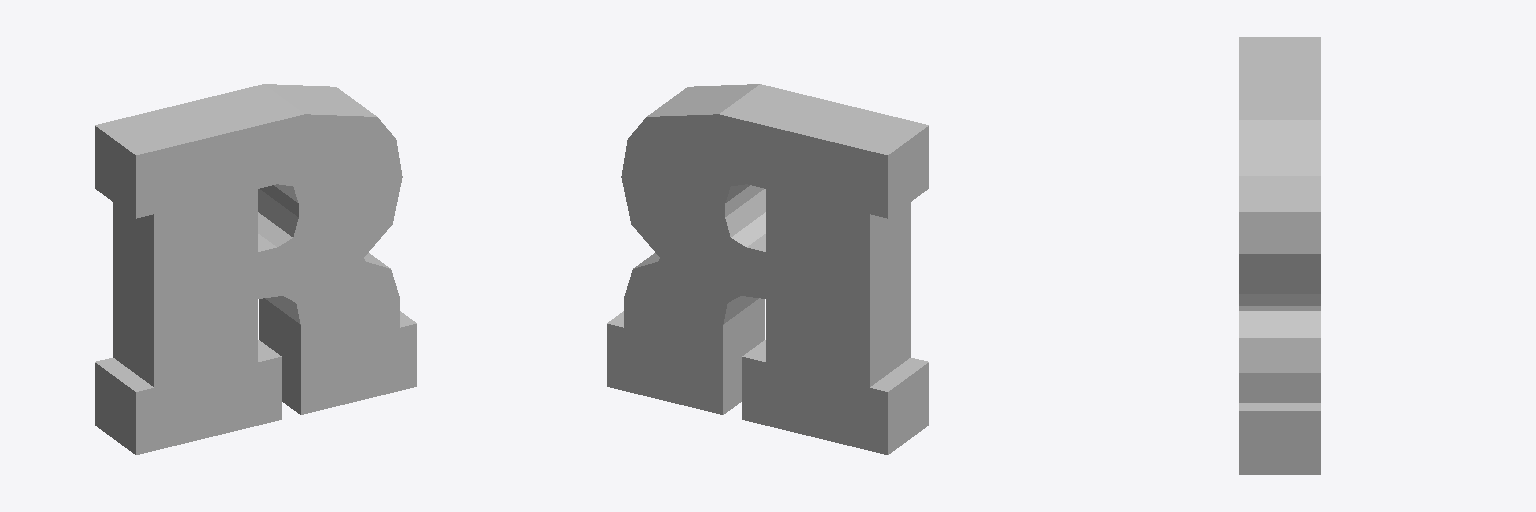
The picture shows the model from 3 angles: view 1: azimuth 30°, elevation 25°; view 2: azimuth 150°, elevation 25°; view 3: azimuth 270°, elevation 25°; orthographic projection.
Parts seen in each view (by area): view 1: text: ABCDEFGHIJKLMNOPQRSTUVWXYZ[number redacted]; view 2: text: ABCDEFGHIJKLMNOPQRSTUVWXYZ[number redacted]; view 3: text: ABCDEFGHIJKLMNOPQRSTUVWXYZ[number redacted].
Boxes of the visible parts, box(x1,y1,x2,y2) form: text: ABCDEFGHIJKLMNOPQRSTUVWXYZ[number redacted]: box(95, 84, 416, 454); text: ABCDEFGHIJKLMNOPQRSTUVWXYZ[number redacted]: box(607, 84, 928, 454); text: ABCDEFGHIJKLMNOPQRSTUVWXYZ[number redacted]: box(1239, 37, 1320, 474).
Size of the model in its own units: 98.2 by 100 by 25.